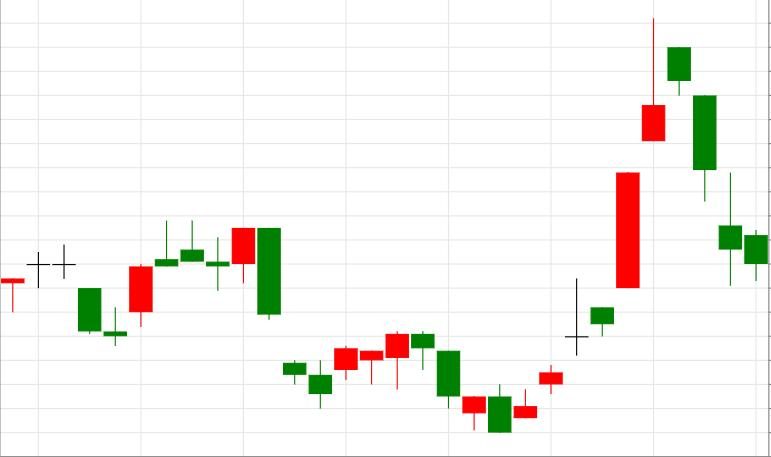bearish_engulfing_fall: (104, 220, 282, 347)
shooting_star_fall: (514, 20, 665, 418)
